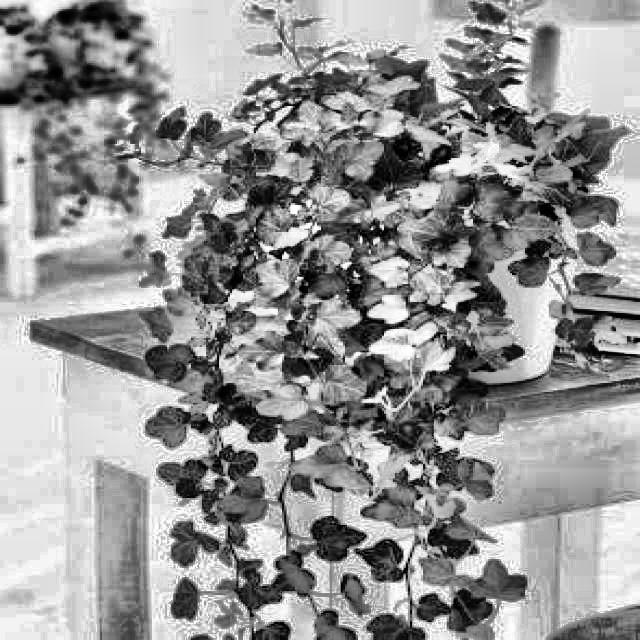plants: (117, 52, 594, 639)
